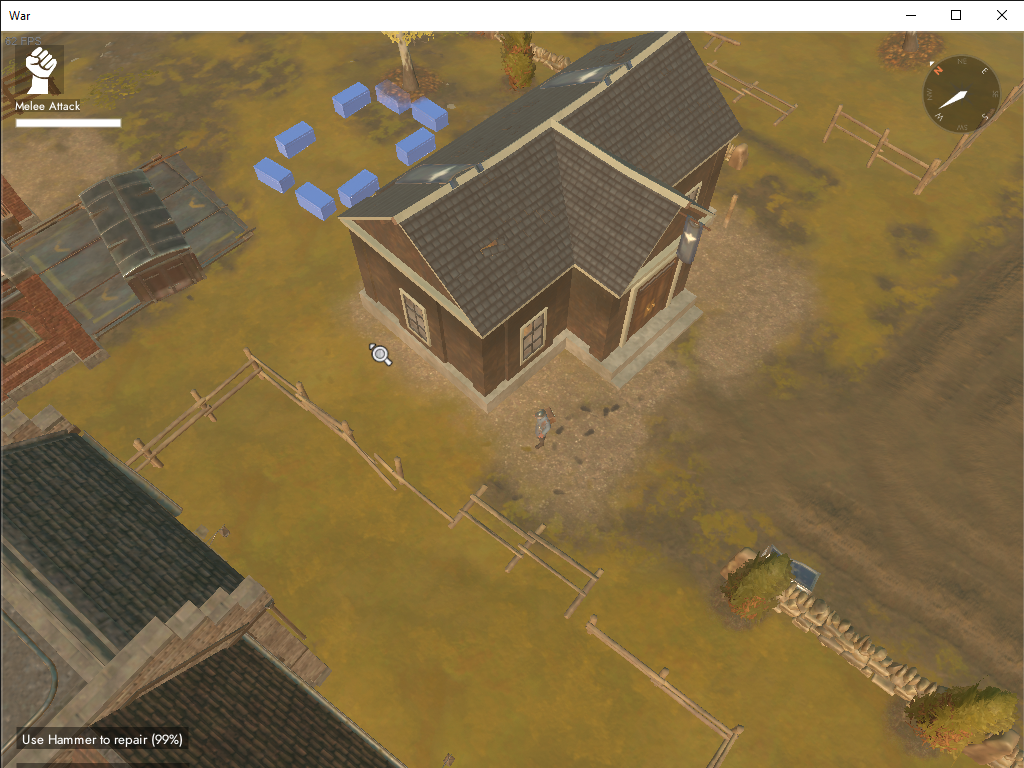container: (79, 167, 208, 307)
player: (530, 407, 555, 451)
storage_box: (757, 541, 822, 597), (292, 180, 338, 221), (337, 168, 381, 210), (249, 155, 295, 195), (394, 126, 438, 166), (273, 120, 317, 159), (331, 81, 373, 120), (373, 77, 416, 115), (410, 94, 451, 133)
